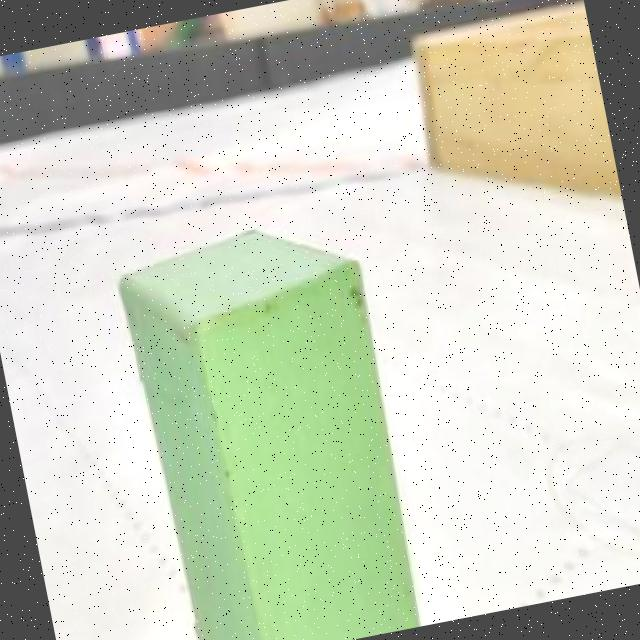greenbox: (104, 203, 436, 640)
